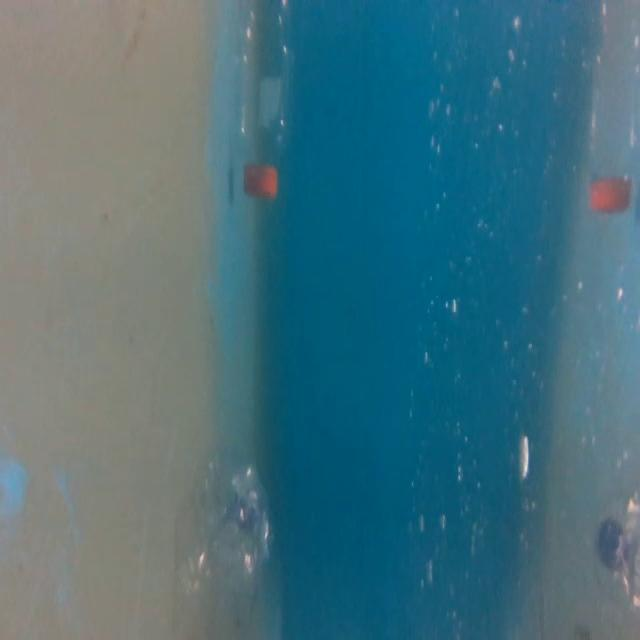plastic bags: (171, 442, 277, 597)
plastic bottle: (234, 0, 299, 211)
